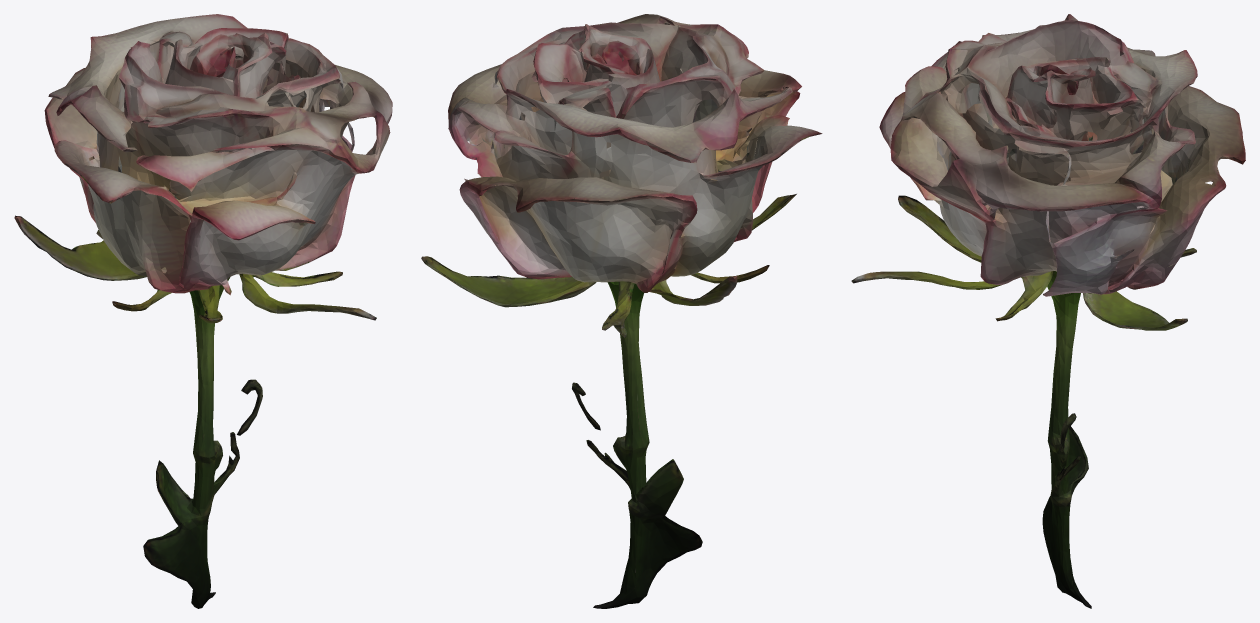
3 views of the same model, side by side, from view 1: azimuth 30°, elevation 25°; view 2: azimuth 150°, elevation 25°; view 3: azimuth 270°, elevation 25° (orthographic). The views are drawn at different scales.
Visible parts, largest first — view 1: world; view 2: world; view 3: world.
Boxes of the visible parts, bbox=[...] form: world: bbox=[14, 14, 392, 608]; world: bbox=[421, 14, 822, 608]; world: bbox=[851, 14, 1245, 608].
Size of the model in its own units: 0.5651 by 0.9578 by 0.6202.
1 material, 1 textured.
